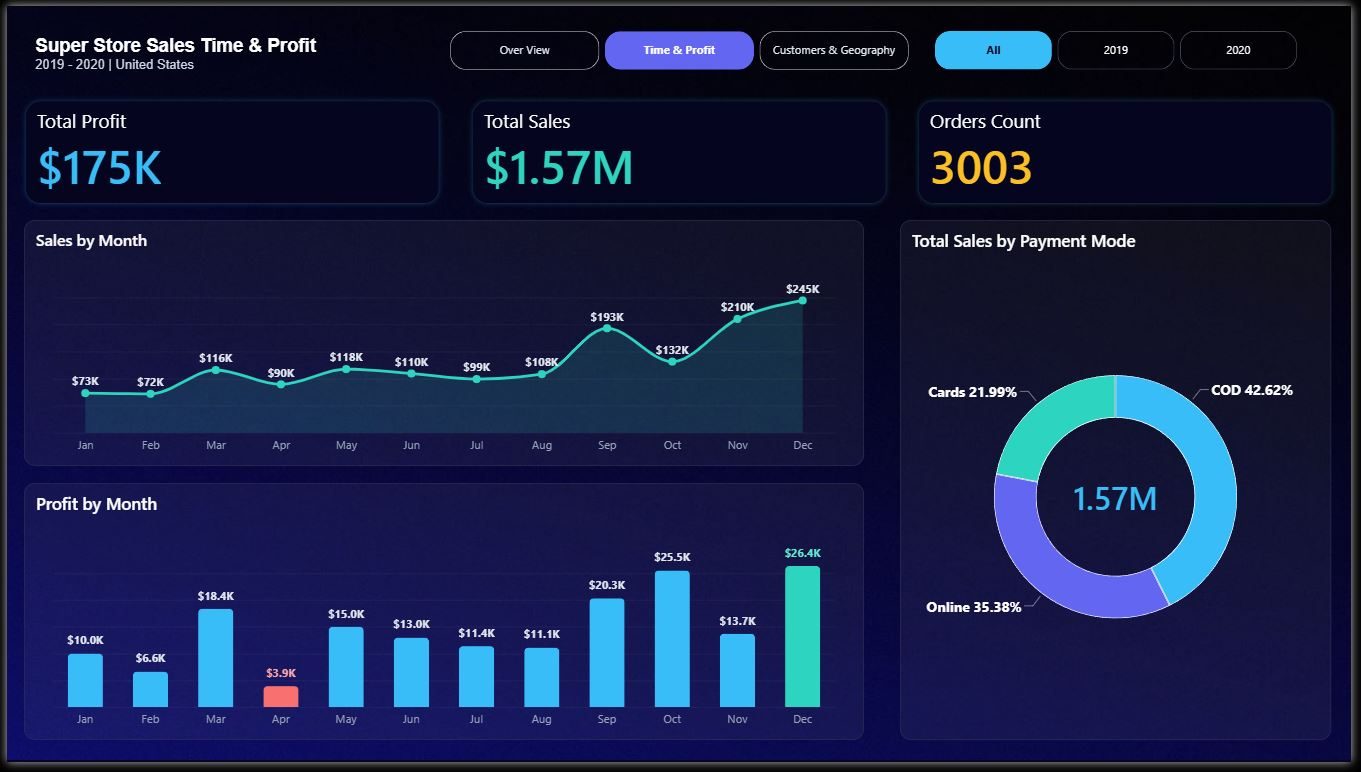

The dashboard page shown, as its layout file describes it:
{"tool":"powerbi","page":{"name":"Time & Profit","canvas":[1920,1080],"ordinal":1},"visuals":[{"type":"textbox","box":[24.3,30,434.3,82.9],"z":1000},{"type":"cardVisual","fields":{"Data":["SuperStore_Sales_Dataset.Total Profit"]},"box":[0,112.9,644.3,192.9],"z":2000},{"type":"cardVisual","fields":{"Data":["SuperStore_Sales_Dataset.Total Sales"]},"box":[637.9,112.9,644.3,192.9],"z":3000},{"type":"cardVisual","fields":{"Data":["SuperStore_Sales_Dataset.Orders Count"]},"box":[1275.7,112.9,644.3,192.9],"z":4000},{"type":"bookmarkNavigator","box":[1325.7,35.7,517.1,55.7],"z":5000},{"type":"deneb7E15AEF80B9E4D4F8E12924291ECE89A","title":"Profit by Month","fields":{"dataset":["SuperStore_Sales_Dataset.Total Profit","SuperStore_Sales_Dataset.Month Name"]},"box":[24.3,681.4,1200,367.1],"z":6000},{"type":"donutChart","title":"Total Sales by Payment Mode","fields":{"Category":["SuperStore_Sales_Dataset.Payment Mode"],"Y":["SuperStore_Sales_Dataset.Total Sales"]},"box":[1275.7,305.7,615.7,742.9],"z":7000},{"type":"deneb7E15AEF80B9E4D4F8E12924291ECE89A","title":"Sales by Month","fields":{"dataset":["SuperStore_Sales_Dataset.Total Sales","SuperStore_Sales_Dataset.Month Name"]},"box":[24.3,305.7,1200,351.4],"z":8000},{"type":"pageNavigator","box":[627.1,30,667.1,67.1],"z":9000}]}

Visuals, with their boxes in screenshot pixels (x1, y1, x2, y2), scaled from the page's 1920x1080 canvas onto the 1361x772 screenshot:
textbox: select_region(17, 21, 325, 81)
cardVisual - SuperStore_Sales_Dataset.Total Profit: select_region(0, 81, 457, 219)
cardVisual - SuperStore_Sales_Dataset.Total Sales: select_region(452, 81, 909, 219)
cardVisual - SuperStore_Sales_Dataset.Orders Count: select_region(904, 81, 1360, 219)
bookmarkNavigator: select_region(940, 26, 1306, 65)
"Profit by Month" deneb7E15AEF80B9E4D4F8E12924291ECE89A: select_region(17, 487, 868, 749)
"Total Sales by Payment Mode" donutChart: select_region(904, 219, 1341, 750)
"Sales by Month" deneb7E15AEF80B9E4D4F8E12924291ECE89A: select_region(17, 219, 868, 470)
pageNavigator: select_region(445, 21, 917, 69)
